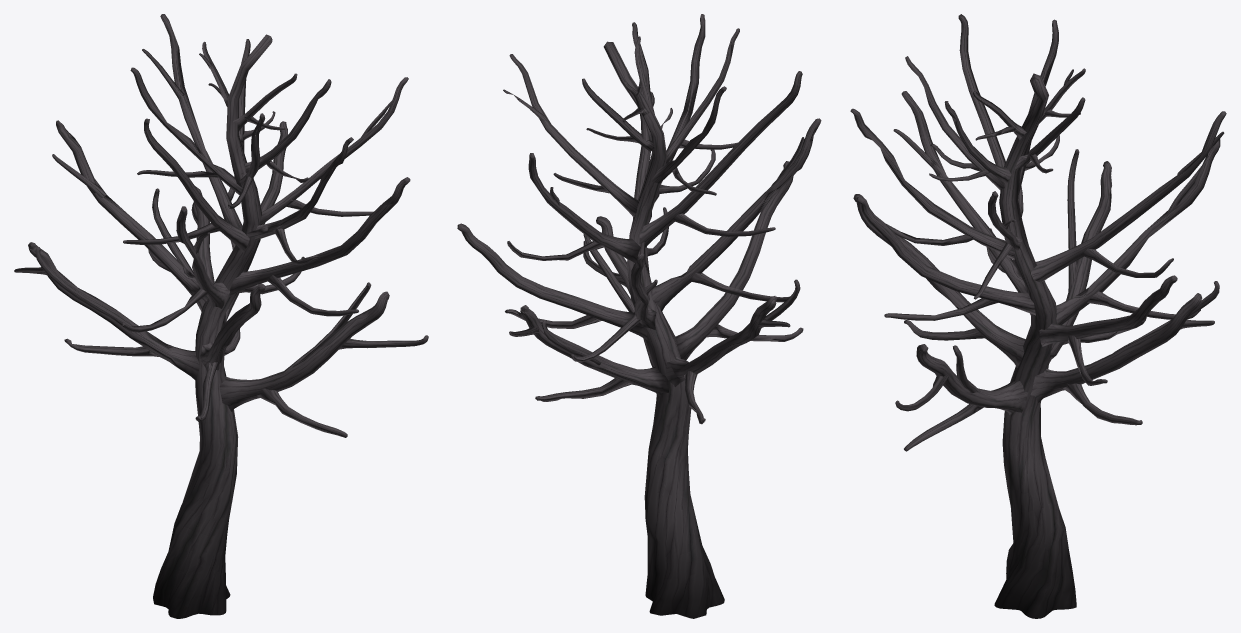
File: arvore_morta1.glb
3 renders of one model, left to right at view 1: azimuth 30°, elevation 25°; view 2: azimuth 150°, elevation 25°; view 3: azimuth 270°, elevation 25°, orthographic. The views are drawn at different scales.
Parts seen in each view (by area): view 1: DeadTree_1; view 2: DeadTree_1; view 3: DeadTree_1.
Boxes of the visible parts, <box> form: DeadTree_1: <box>14,14,428,618</box>; DeadTree_1: <box>457,14,821,618</box>; DeadTree_1: <box>850,14,1226,618</box>.
Bounding box in the file's own units: 6.15 × 9.5 × 5.75.
Materials: 1 (1 with a texture image).
